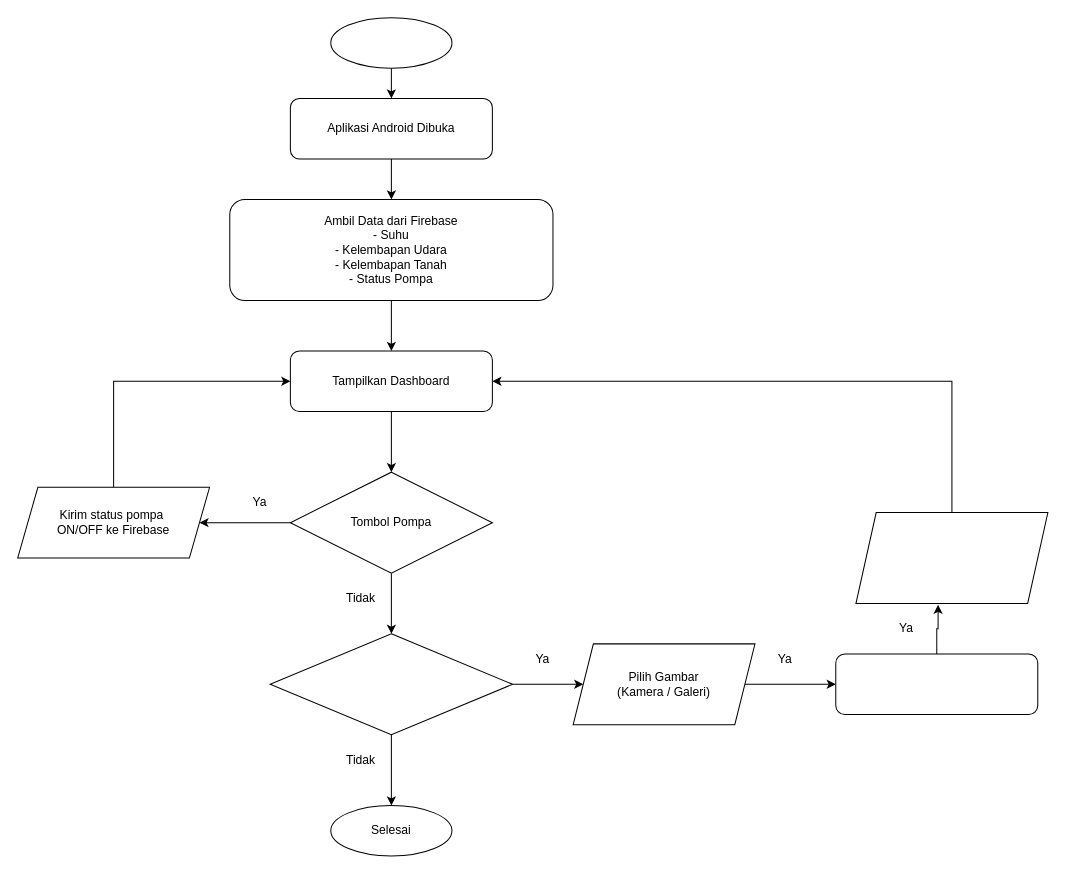
Image size: 1066x874. Some labels were removed from this diagram. The box of each missing label's shape, as (x1, y1, x2, y2) in pixels:
Mulai: (330, 17, 452, 68)
Proses membaca gambar Model AI (TFLite): (835, 653, 1038, 715)
Tampilkan Hasil - Nama Penyakit - Deskripsi - Cara Mengatasi: (855, 512, 1048, 603)
Tombol Deteksi Penyakit: (269, 633, 513, 735)
